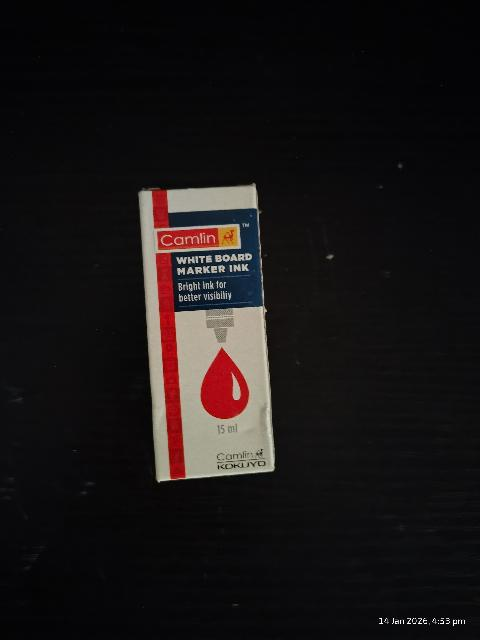camlin marker ink: (138, 189, 279, 470)
